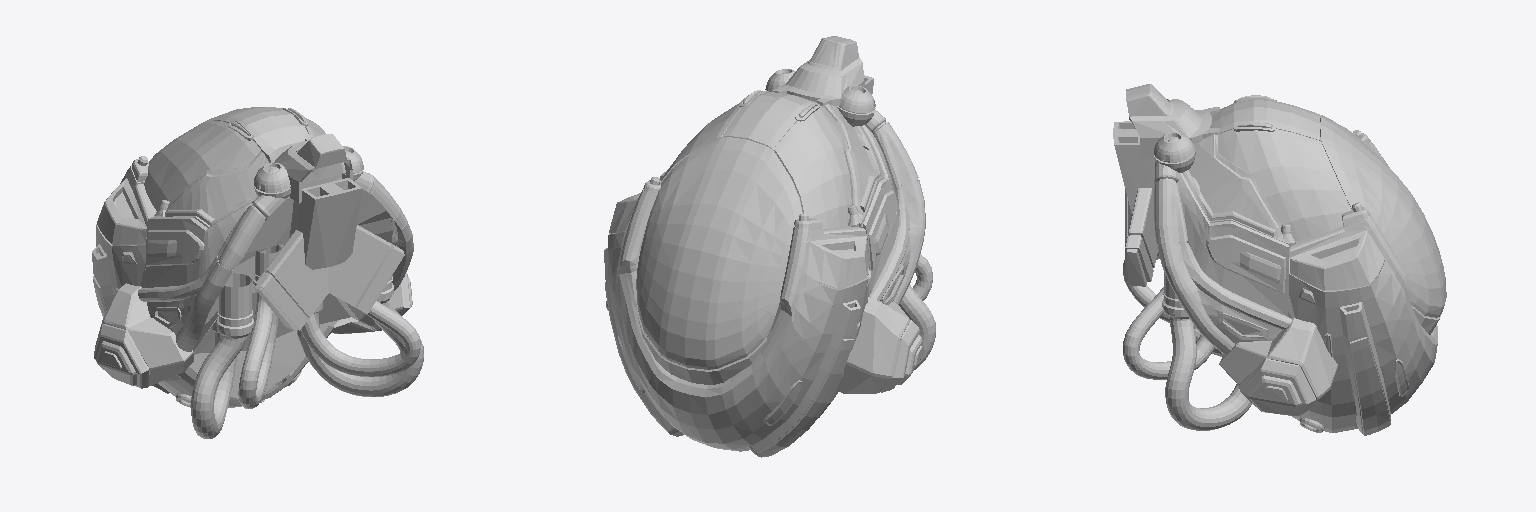
Rendered from helmet.obj.
3 renders of one model, left to right at view 1: azimuth 30°, elevation 25°; view 2: azimuth 150°, elevation 25°; view 3: azimuth 270°, elevation 25°, orthographic.
Bounding box in the file's own units: 1.89 × 2 × 1.8.